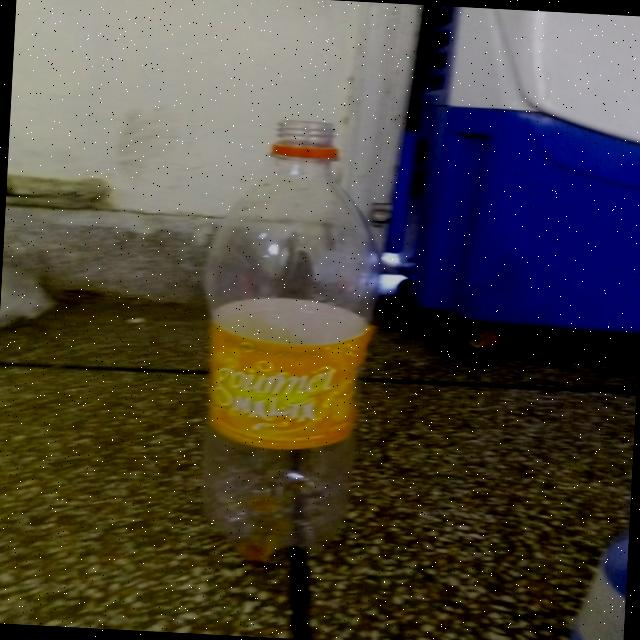bottle: (177, 105, 395, 574)
label: (188, 306, 366, 453)
